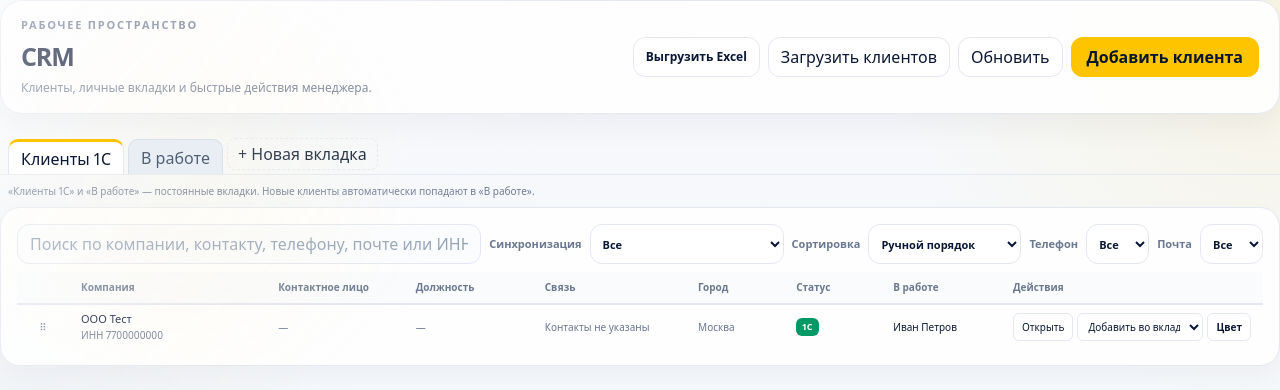
Test case: renders the work-owner status in desktop primary rows only
The width and height of the screenshot is (1280, 390).
Expected: the column heading "В работе" is shown, [881,272,1001,304]
Expected: the text "Иван Петров" is shown, [893,320,957,334]
Click the button "В работе". click: click(176, 157)
box: [128,139,223,175]
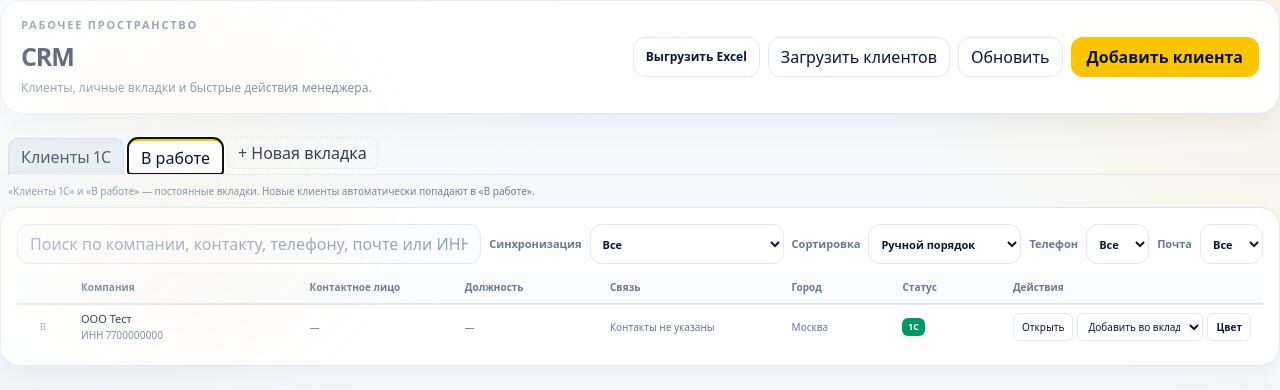
Result: the text "Иван Петров" is gone
